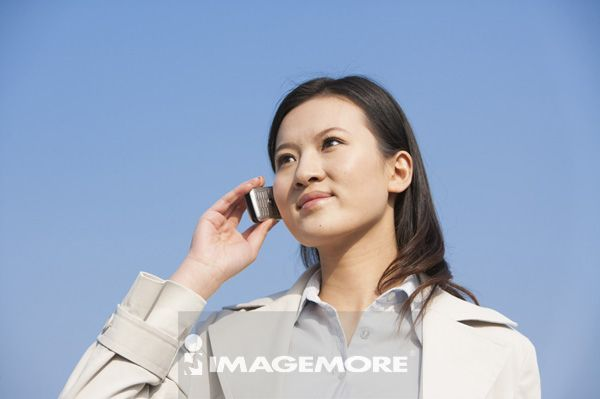talk: (183, 122, 357, 284)
